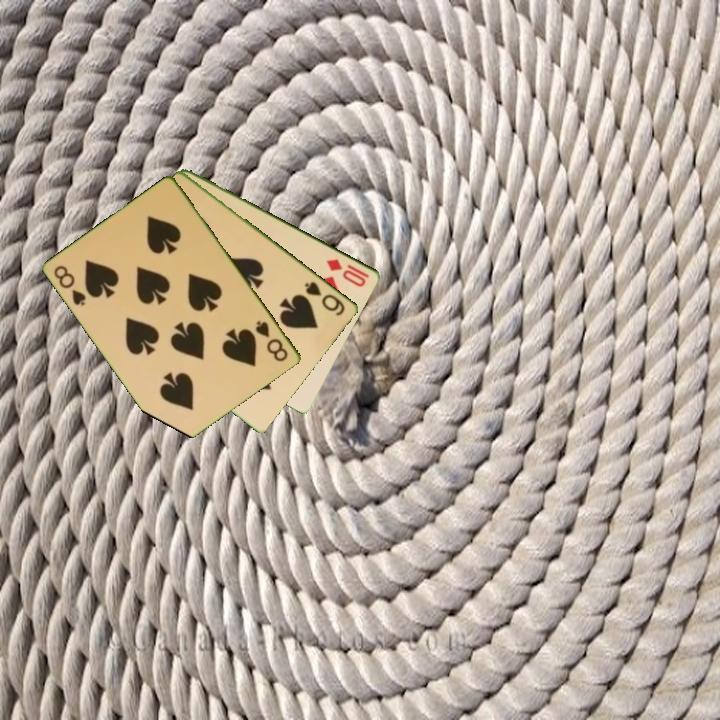10d: (323, 255, 372, 290)
6s: (301, 278, 348, 319)
8s: (252, 317, 291, 365), (50, 262, 89, 309)
